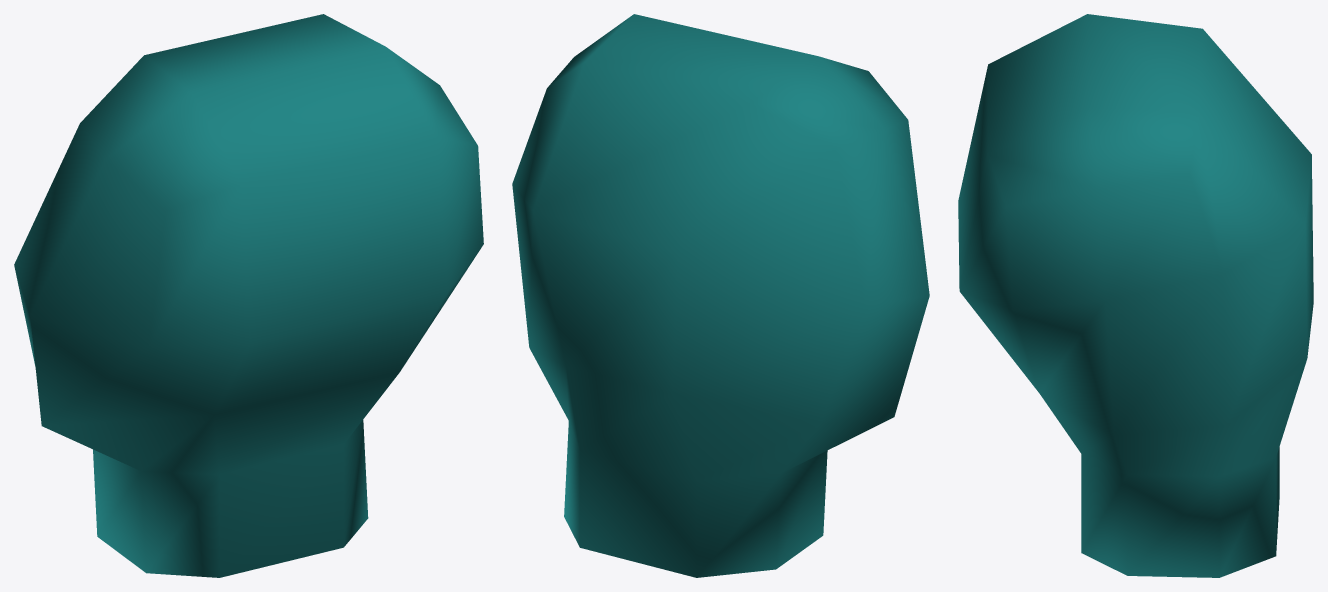
Rendered from boxing_glove_collider.fbx.
3 views of the same model, side by side, from view 1: azimuth 30°, elevation 25°; view 2: azimuth 150°, elevation 25°; view 3: azimuth 270°, elevation 25° (orthographic). The views are drawn at different scales.
Parts seen in each view (by area): view 1: boxing_glove_collider; view 2: boxing_glove_collider; view 3: boxing_glove_collider.
Part boxes in pixels (x1=…): boxing_glove_collider: x1=14, y1=14, x2=483, y2=577; boxing_glove_collider: x1=512, y1=14, x2=929, y2=577; boxing_glove_collider: x1=958, y1=14, x2=1313, y2=577.
Size of the model in its own units: 18.32 by 20.41 by 14.01.
